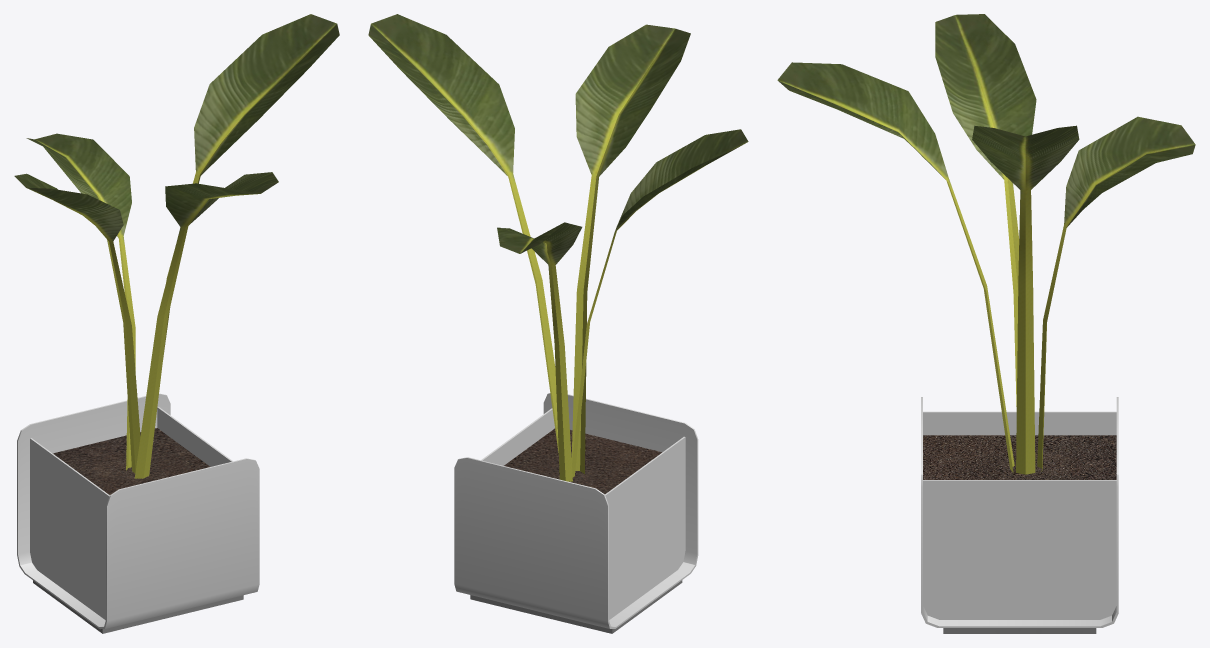
Rendered from Plant.fbx.
3 renders of one model, left to right at view 1: azimuth 30°, elevation 25°; view 2: azimuth 150°, elevation 25°; view 3: azimuth 270°, elevation 25°, orthographic. The views are drawn at different scales.
Parts seen in each view (by area): view 1: Plant; view 2: Plant; view 3: Plant.
Boxes of the visible parts, bbox=[...] form: Plant: bbox=[14, 14, 339, 633]; Plant: bbox=[368, 14, 748, 633]; Plant: bbox=[777, 14, 1195, 633].
Bounding box in the file's own units: 225 × 325 × 216.
